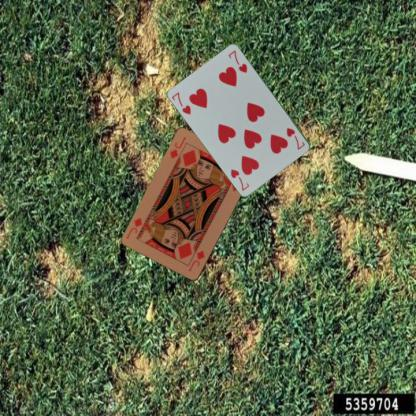7h: (284, 125, 306, 151), (170, 90, 192, 116)
Jd: (186, 248, 206, 273), (168, 135, 187, 160)
